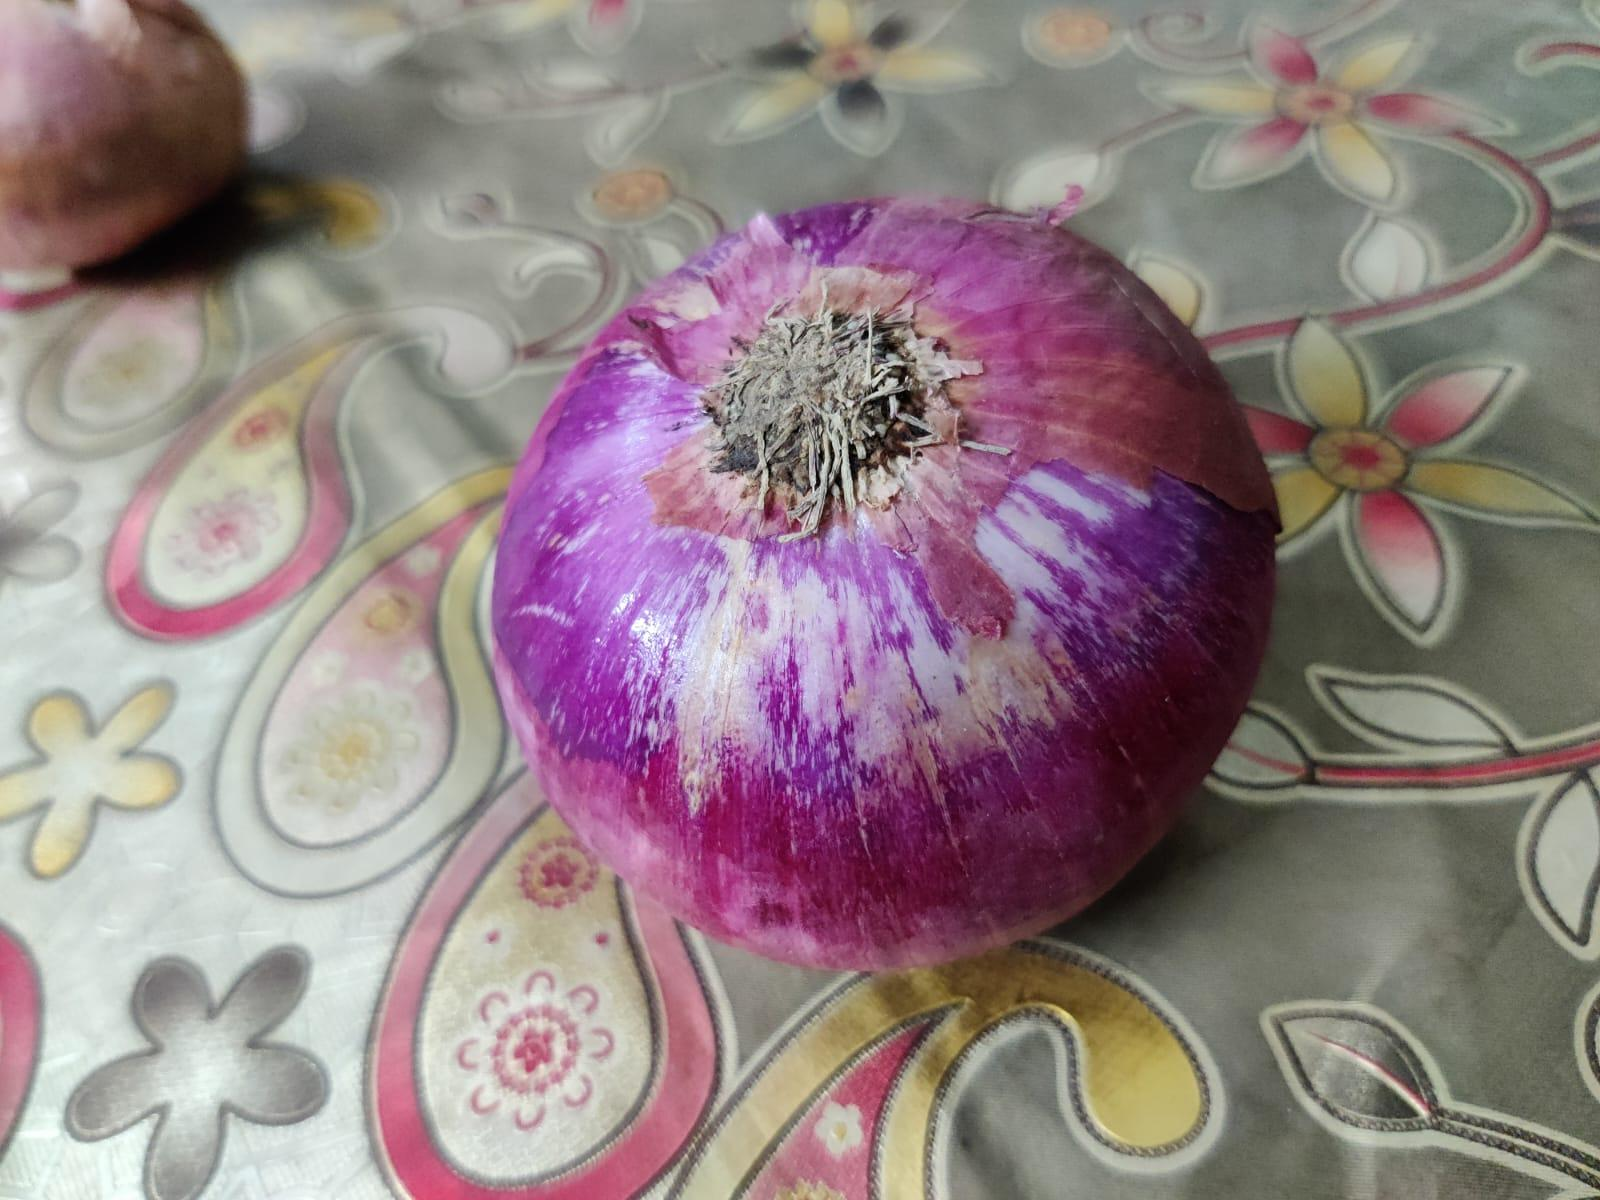non-mango: (474, 178, 1295, 968)
